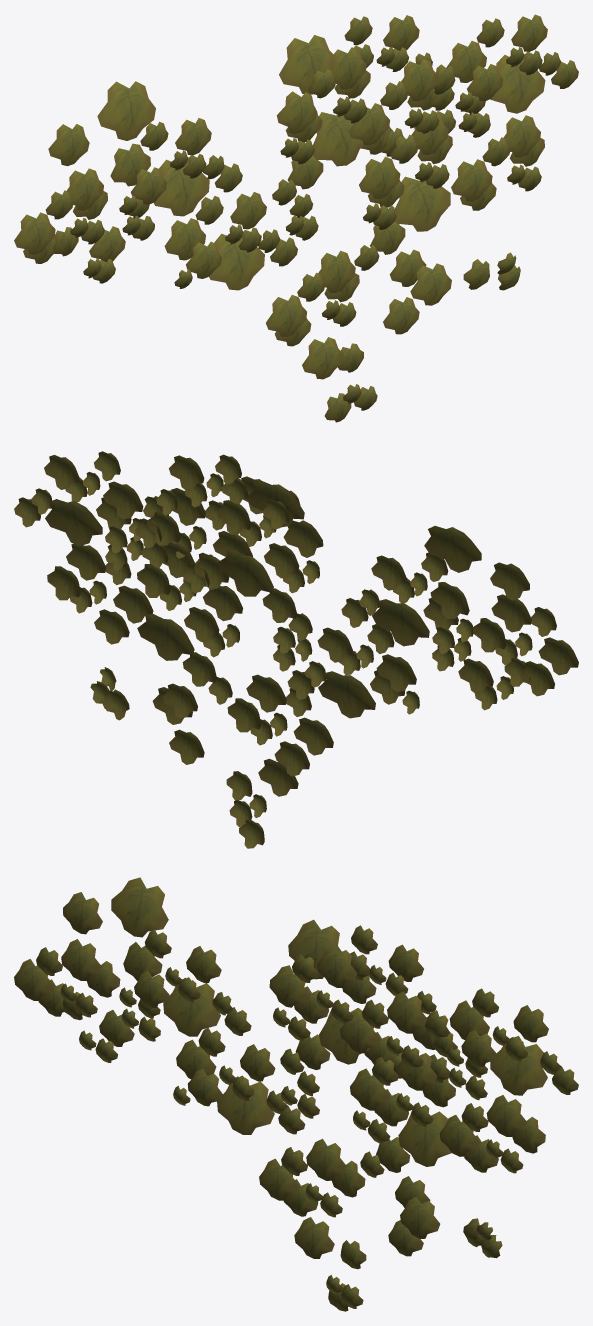
File: wallvines.fbx
3 renders of one model, top to bottom at view 1: azimuth 30°, elevation 25°; view 2: azimuth 150°, elevation 25°; view 3: azimuth 330°, elevation 25°, orthographic. The views are drawn at different scales.
Parts seen in each view (by area): view 1: Plane009, Plane043, Plane011, Plane024, Plane060, Plane073, Plane012, Plane115, Plane097, Plane010, Plane057, Plane104 (+41 smaller); view 2: Plane009, Plane012, Plane073, Plane060, Plane043, Plane024, Plane011, Plane010, Plane111, Plane104, Plane108, Plane081 (+46 smaller); view 3: Plane009, Plane012, Plane060, Plane073, Plane043, Plane011, Plane010, Plane087, Plane094, Plane101, Plane108, Plane115 (+34 smaller).
Boxes of the visible parts, box(x1,y1,x2,y2) form: Plane009: box(97, 81, 155, 140); Plane043: box(394, 176, 450, 231); Plane011: box(279, 35, 333, 94); Plane024: box(312, 112, 363, 166); Plane060: box(154, 157, 209, 216); Plane073: box(209, 231, 264, 290); Plane012: box(490, 54, 545, 113); Plane115: box(302, 337, 343, 379); Plane097: box(451, 159, 492, 201); Plane010: box(48, 124, 89, 166); Plane057: box(359, 156, 400, 198); Plane104: box(14, 212, 55, 254); Plane009: box(424, 526, 481, 572); Plane012: box(45, 499, 102, 546); Plane073: box(318, 671, 375, 718); Plane060: box(372, 599, 429, 646); Plane043: box(137, 614, 194, 660); Plane024: box(217, 550, 273, 596); Plane011: box(247, 480, 304, 527); Plane010: box(490, 562, 529, 600); Plane111: box(293, 717, 333, 755); Plane104: box(538, 637, 578, 675); Plane108: box(246, 674, 286, 712); Plane081: box(376, 654, 416, 692); Plane009: box(111, 877, 168, 937); Plane012: box(490, 1036, 547, 1095); Plane060: box(163, 977, 220, 1036); Plane073: box(217, 1075, 274, 1134); Plane043: box(398, 1111, 451, 1166); Plane011: box(288, 919, 341, 979); Plane010: box(63, 892, 102, 934); Plane087: box(387, 991, 427, 1033); Plane094: box(486, 1095, 526, 1136); Plane101: box(61, 939, 101, 980); Plane108: box(306, 1138, 346, 1180); Plane115: box(294, 1217, 334, 1258).
Size of the model in its own units: 2.48 by 0.1608 by 1.65.
